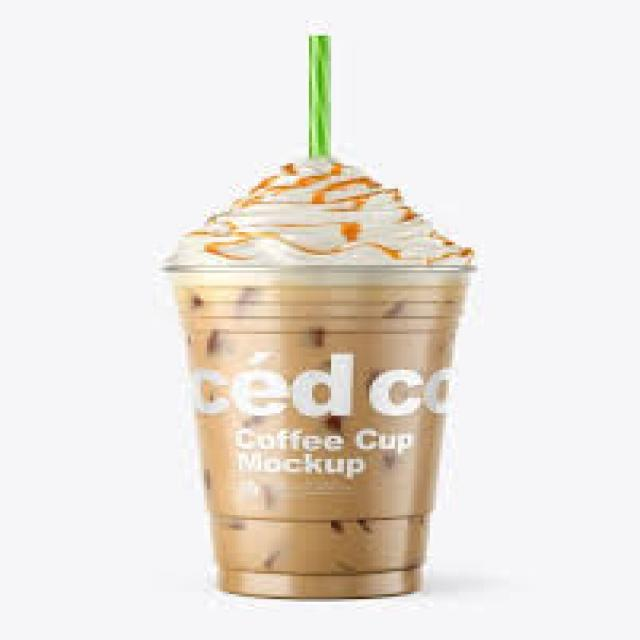bottle: (179, 267, 470, 597)
